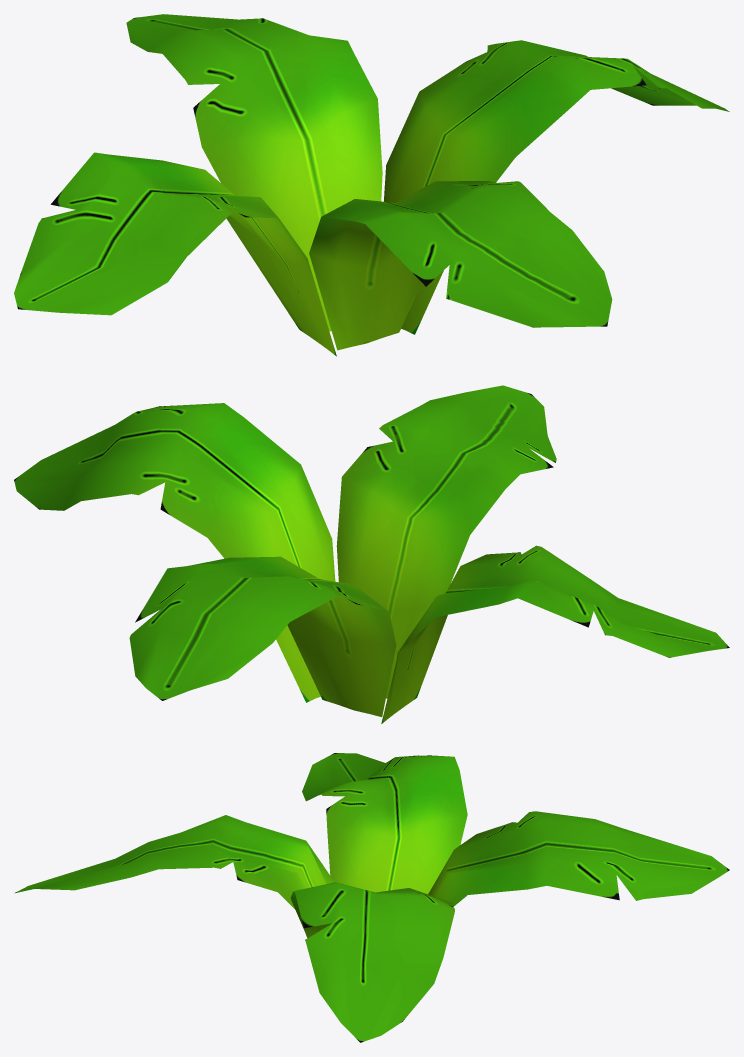
File: Fern01.fbx
The picture shows the model from 3 angles, top to bottom: view 1: azimuth 30°, elevation 25°; view 2: azimuth 150°, elevation 25°; view 3: azimuth 270°, elevation 25°; orthographic projection. The views are drawn at different scales.
Visible parts, largest first — view 1: Fern01_LOD0; view 2: Fern01_LOD0; view 3: Fern01_LOD0.
Boxes of the visible parts, x1,y1,x2,y2 form: Fern01_LOD0: [14, 14, 729, 356]; Fern01_LOD0: [14, 385, 729, 723]; Fern01_LOD0: [15, 753, 729, 1042].
Size of what is drawn, in the model's own units: 189 by 60.93 by 192.
Materials: 1 (1 with a texture image).
